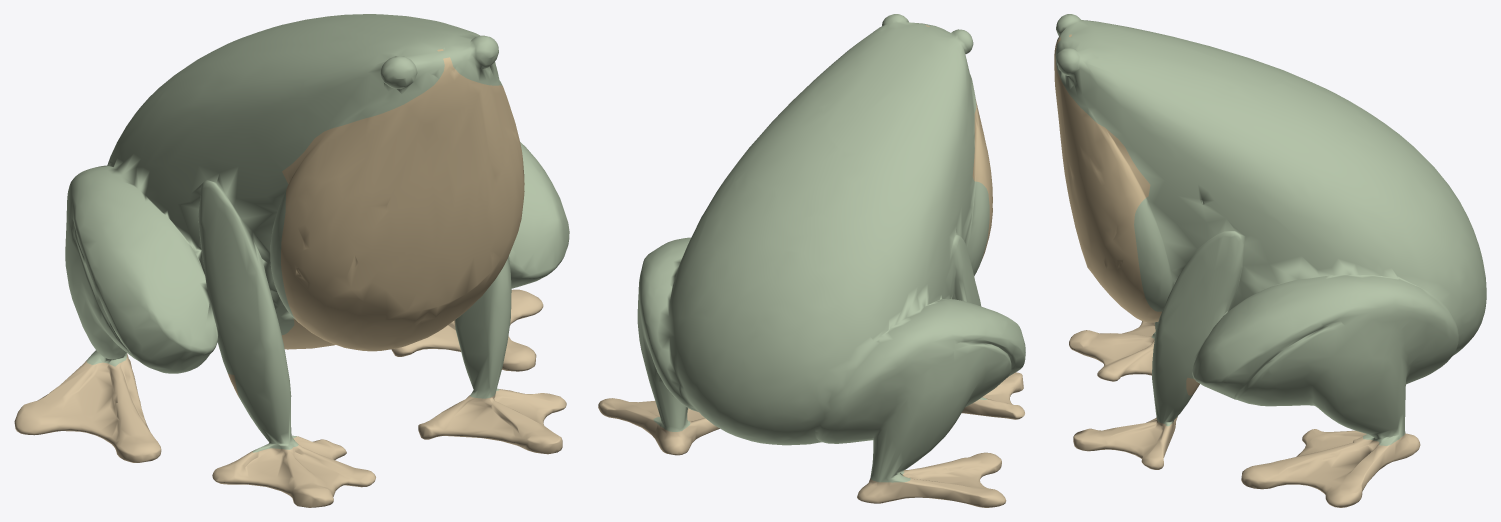
The model's file is bellows-toad.glb.
3 renders of one model, left to right at view 1: azimuth 30°, elevation 25°; view 2: azimuth 150°, elevation 25°; view 3: azimuth 270°, elevation 25°, orthographic. The views are drawn at different scales.
Visible parts, largest first — view 1: toad; view 2: toad; view 3: toad.
Boxes of the visible parts, bbox=[...] form: toad: bbox=[14, 14, 569, 507]; toad: bbox=[598, 14, 1025, 507]; toad: bbox=[1054, 14, 1486, 507].
Size of the model in its own units: 2.69 by 2.2 by 2.3.
